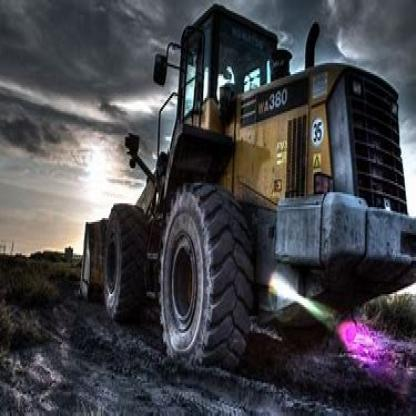bull_dozer/loader/grader: (74, 4, 415, 375)
